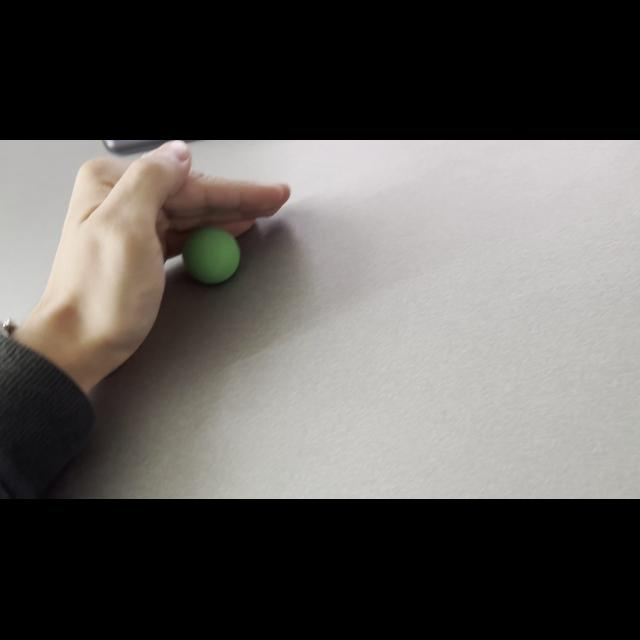objects: (178, 221, 248, 291)
